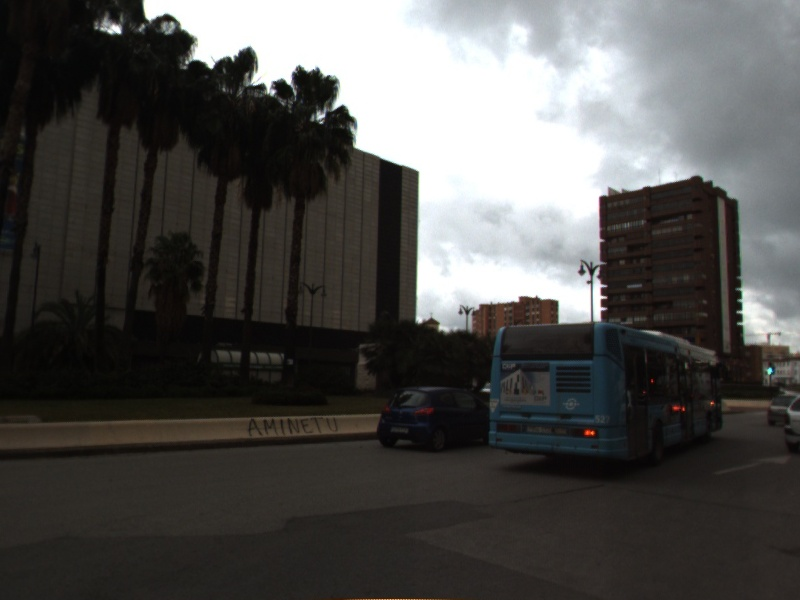STRAIGHT: (711, 453, 794, 477)
